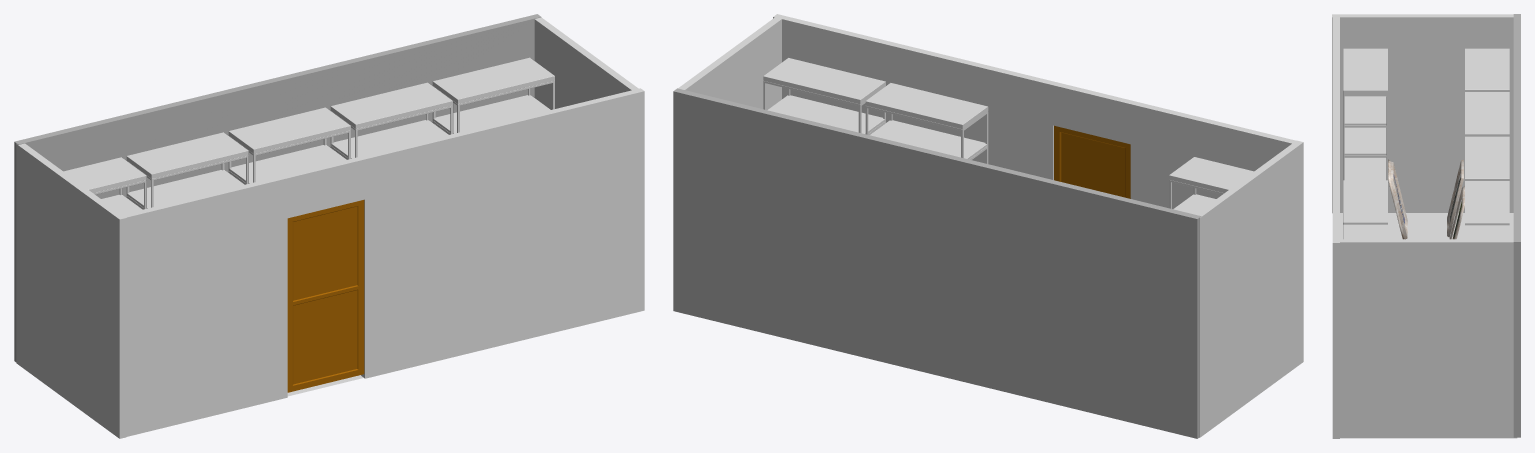
File: Fire Exit Door.fbx
3 renders of one model, left to right at view 1: azimuth 30°, elevation 25°; view 2: azimuth 150°, elevation 25°; view 3: azimuth 270°, elevation 25°, orthographic. The views are drawn at different scales.
Visible parts, largest first — view 1: Cube__4_, Cube__6_, Cube, Side Rail.001, LockedDoor, Cube__2_; view 2: Cube, Cube__4_, Cube__6_, Side Rail.002, Cube__2_, LockedDoor, Side Rail.003; view 3: Cube__2_, Cube__6_, Side Rail.001, Side Rail.003, Cube, Cube__4_, Side Rail.002, Plane, PaintingFrame.006, PaintingFrame.002, PaintingFrame.005, PaintingFrame.007.
Boxes of the visible parts, <box> form: Cube__4_: <box>119,88,644,436</box>; Cube__6_: <box>16,143,126,438</box>; Cube: <box>14,14,541,361</box>; Side Rail.001: <box>63,57,555,214</box>; LockedDoor: <box>287,200,364,392</box>; Cube__2_: <box>534,17,642,312</box>; Cube: <box>673,88,1201,438</box>; Cube__4_: <box>773,14,1295,208</box>; Cube__6_: <box>1195,140,1303,437</box>; Side Rail.002: <box>763,58,988,163</box>; Cube__2_: <box>678,14,785,109</box>; LockedDoor: <box>1054,125,1130,198</box>; Side Rail.003: <box>1169,157,1253,214</box>; Cube__2_: <box>1332,239,1516,438</box>; Cube__6_: <box>1332,14,1513,213</box>; Side Rail.001: <box>1465,48,1509,239</box>; Side Rail.003: <box>1343,48,1387,180</box>; Cube: <box>1513,14,1520,437</box>; Cube__4_: <box>1332,17,1339,438</box>; Side Rail.002: <box>1343,180,1387,239</box>; Plane: <box>1340,213,1513,239</box>; PaintingFrame.006: <box>1390,161,1407,239</box>; PaintingFrame.002: <box>1447,159,1463,237</box>; PaintingFrame.005: <box>1449,186,1464,239</box>; PaintingFrame.007: <box>1388,159,1404,239</box>.
Size of the model in its own units: 3758 by 1503 by 1310.
